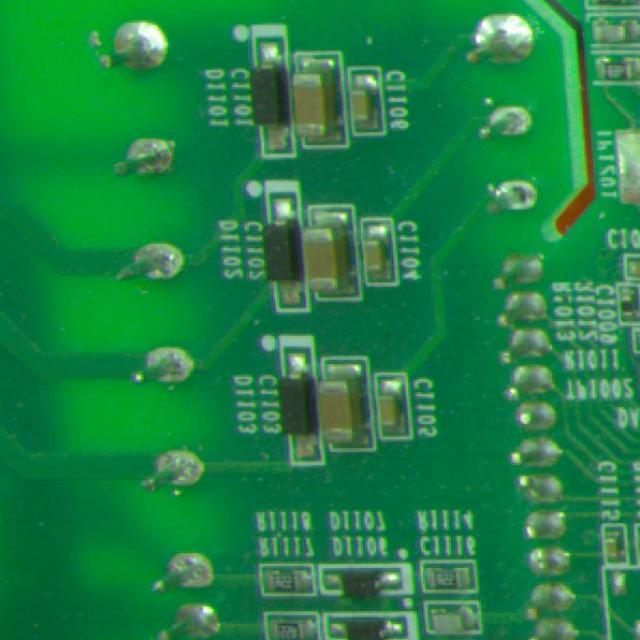Insufficient solder: (114, 338, 206, 416), (124, 438, 210, 504), (110, 128, 178, 192), (152, 587, 228, 640), (148, 542, 220, 597), (126, 238, 192, 294), (483, 172, 547, 222)
